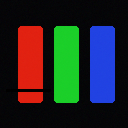3 line_h: (6, 89, 50, 91)
